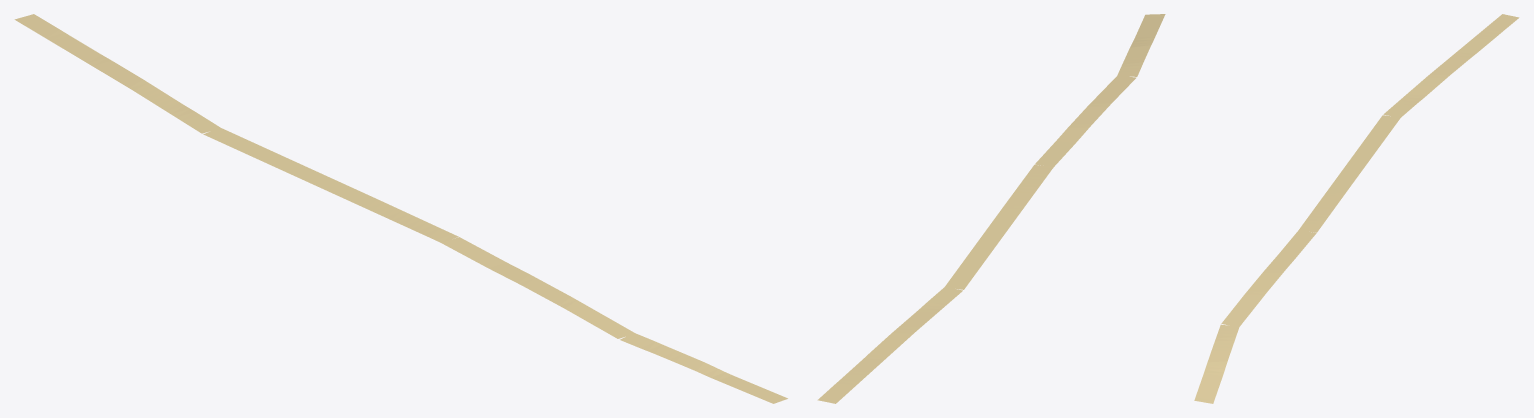
The model's file is Trail_21.glb.
3 renders of one model, left to right at view 1: azimuth 30°, elevation 25°; view 2: azimuth 150°, elevation 25°; view 3: azimuth 330°, elevation 25°, orthographic. The views are drawn at different scales.
Parts seen in each view (by area): view 1: Trail_21; view 2: Trail_21; view 3: Trail_21.
Part boxes in pixels (box(x1,y1,x2,y2)): Trail_21: box(14, 14, 787, 403); Trail_21: box(817, 14, 1165, 403); Trail_21: box(1194, 14, 1519, 403).
Bounding box in the file's own units: 17.82 × 1.58 × 84.34.
